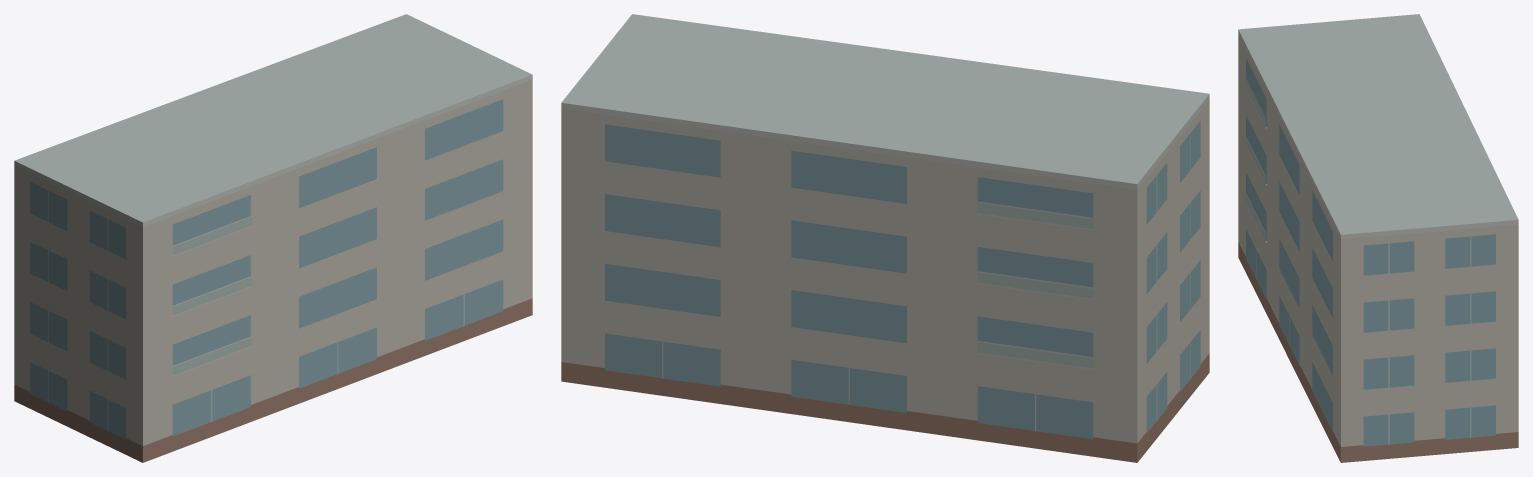
File: survey-upis-32633484.glb
3 renders of one model, left to right at view 1: azimuth 30°, elevation 25°; view 2: azimuth 150°, elevation 25°; view 3: azimuth 270°, elevation 25°, orthographic. The views are drawn at different scales.
Visible parts, largest first — view 1: survey-upis-32633484.tmp; view 2: survey-upis-32633484.tmp; view 3: survey-upis-32633484.tmp.
Part boxes in pixels (bbox=[...]): survey-upis-32633484.tmp: bbox=[14, 14, 532, 462]; survey-upis-32633484.tmp: bbox=[561, 14, 1209, 462]; survey-upis-32633484.tmp: bbox=[1238, 14, 1518, 462].
Size of the model in its own units: 25.14 by 12.1 by 13.49.
